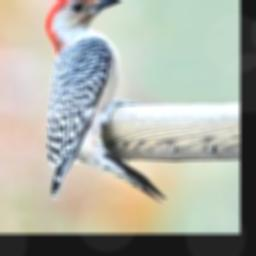Woodpecker: (33, 0, 175, 217)
